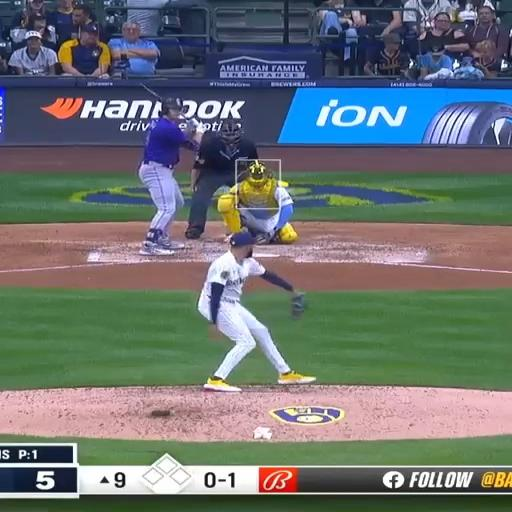bat: (139, 83, 161, 101)
